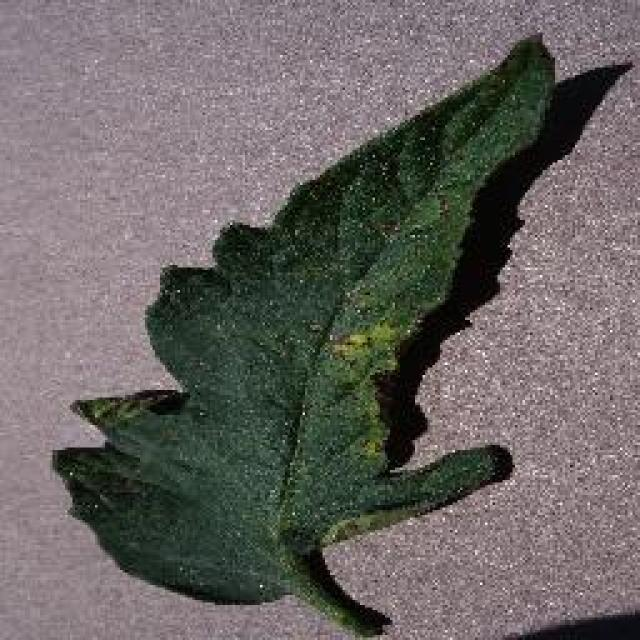Tomato target spot leaf: (49, 35, 554, 610)
